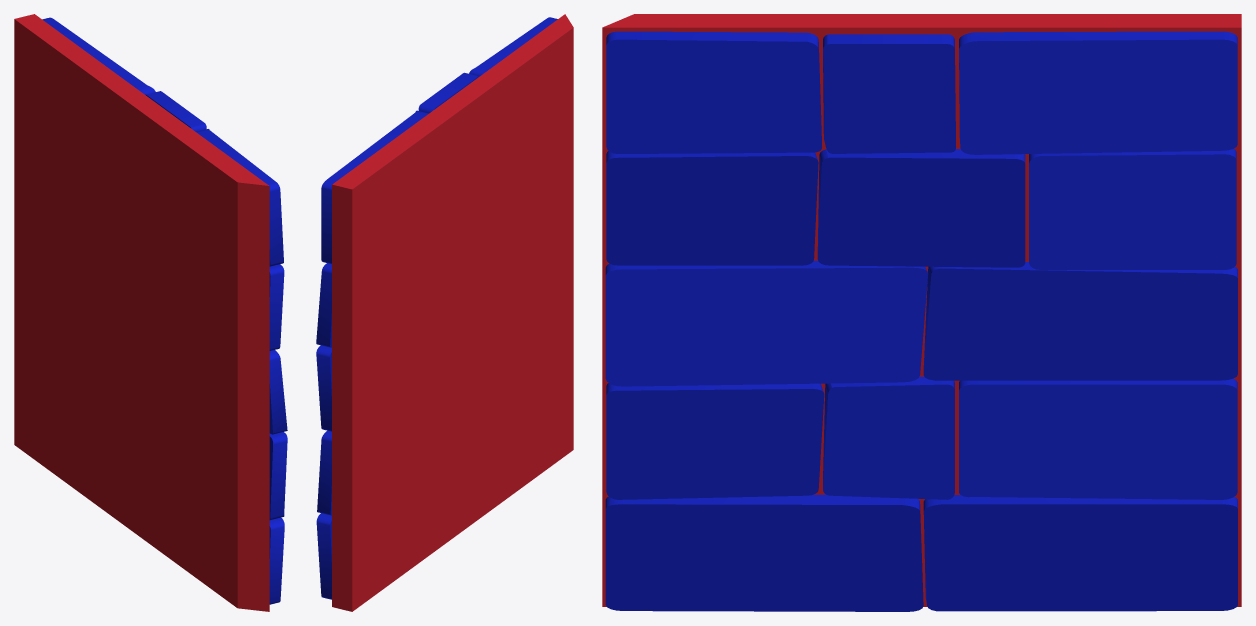
Rendered from Unity HD Render Pipeline (Metallic Standard).fbx.
3 views of the same model, side by side, from view 1: azimuth 30°, elevation 25°; view 2: azimuth 150°, elevation 25°; view 3: azimuth 270°, elevation 25° (orthographic). The views are drawn at different scales.
Visible parts, largest first — view 1: WallCornerSim (×2); view 2: WallCornerSim (×2); view 3: WallCornerSim (×2).
Boxes of the visible parts, bbox=[...] form: WallCornerSim (×2): bbox=[14, 14, 287, 611]; WallCornerSim (×2): bbox=[316, 14, 573, 611]; WallCornerSim (×2): bbox=[602, 14, 1241, 611].
Size of the model in its own units: 0.2119 by 2 by 2.
